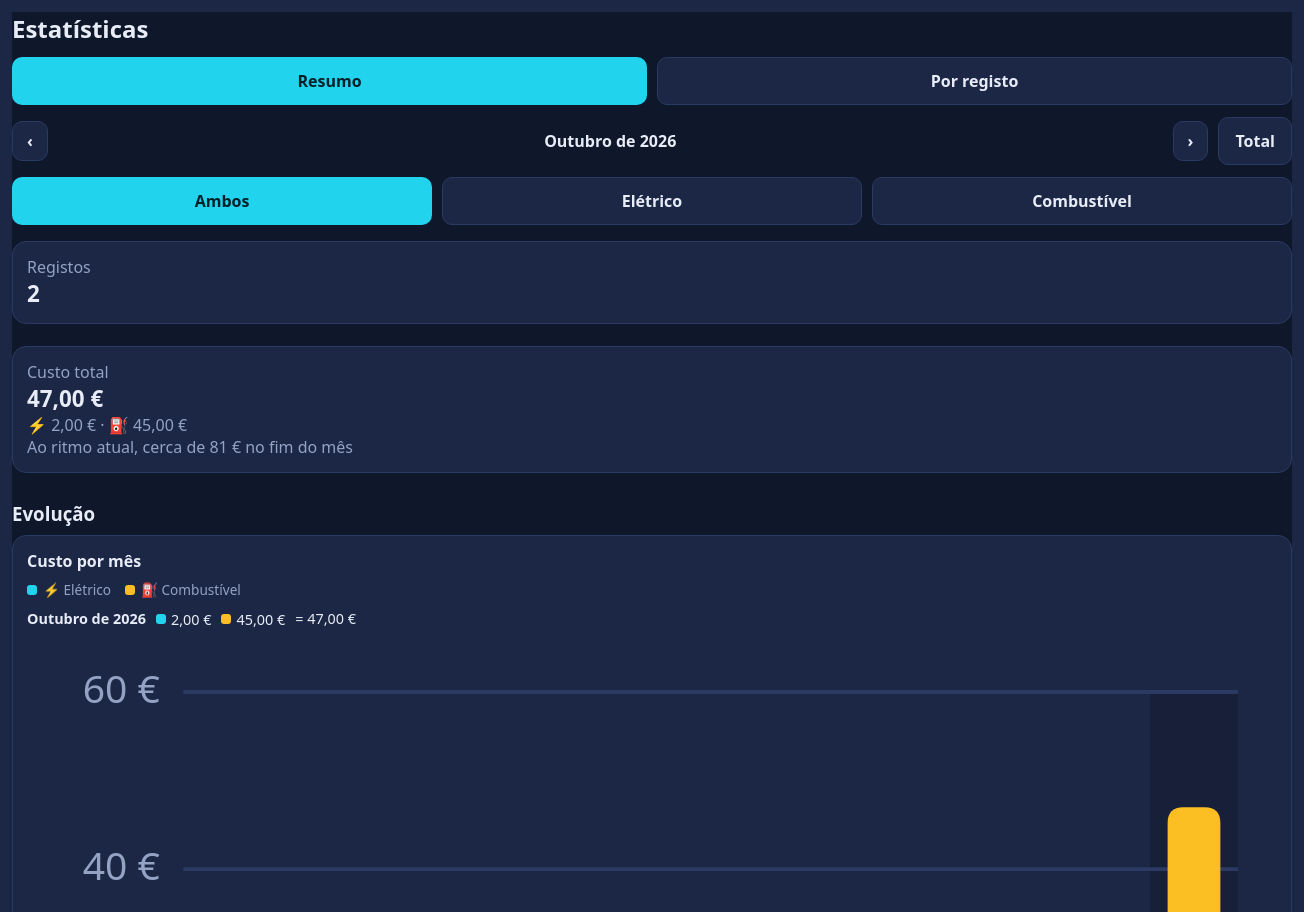
Test: StatsScreen › switches to the electric-only view for the current period
What coordinates should you click on to do the following:
click the button "Elétrico"
I would click on:
 (652, 201)
Its box is top-left (442, 177), bottom-right (862, 225).
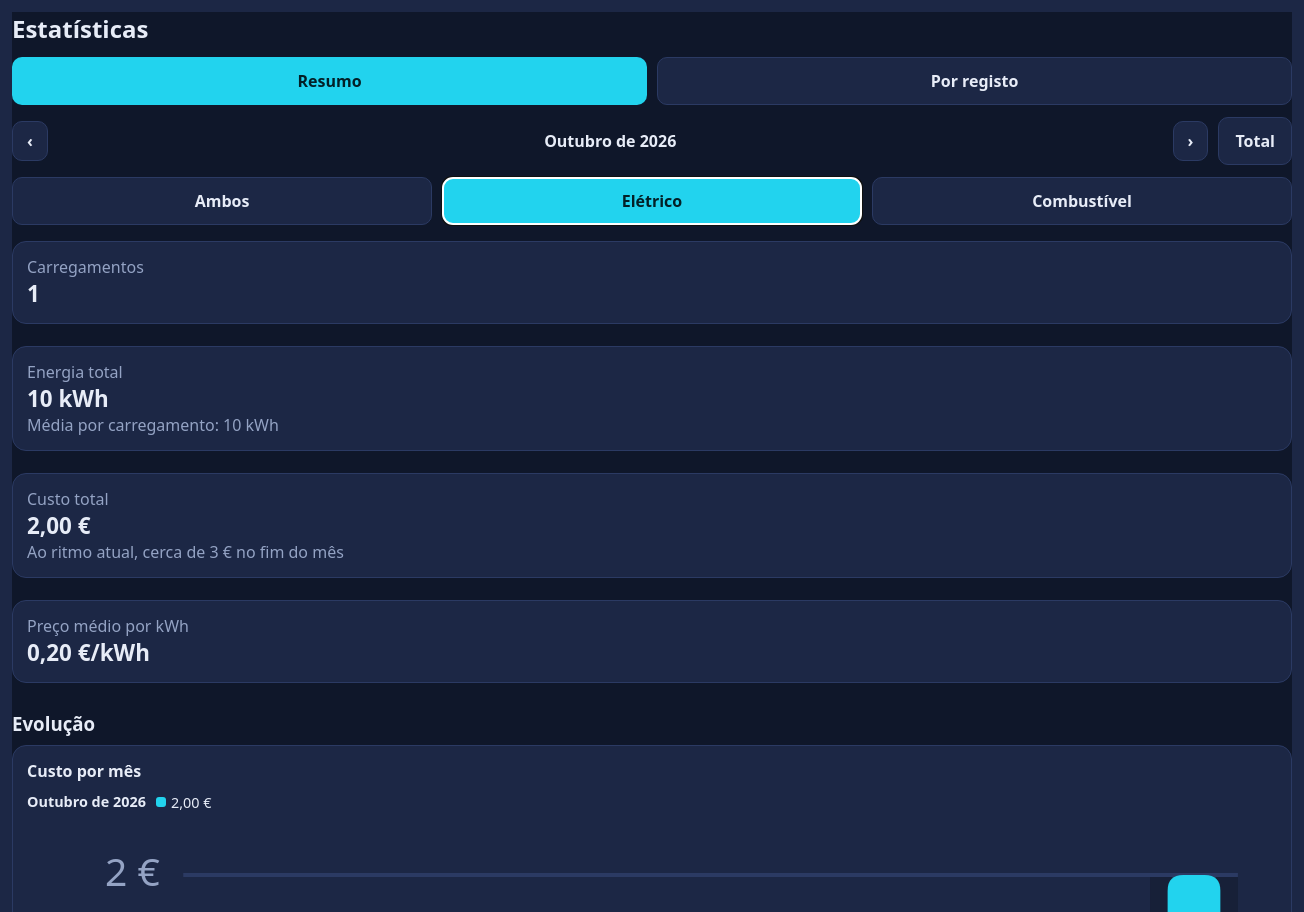
Now the text "10 kWh" is shown, box top-left (27, 383), bottom-right (109, 414)
